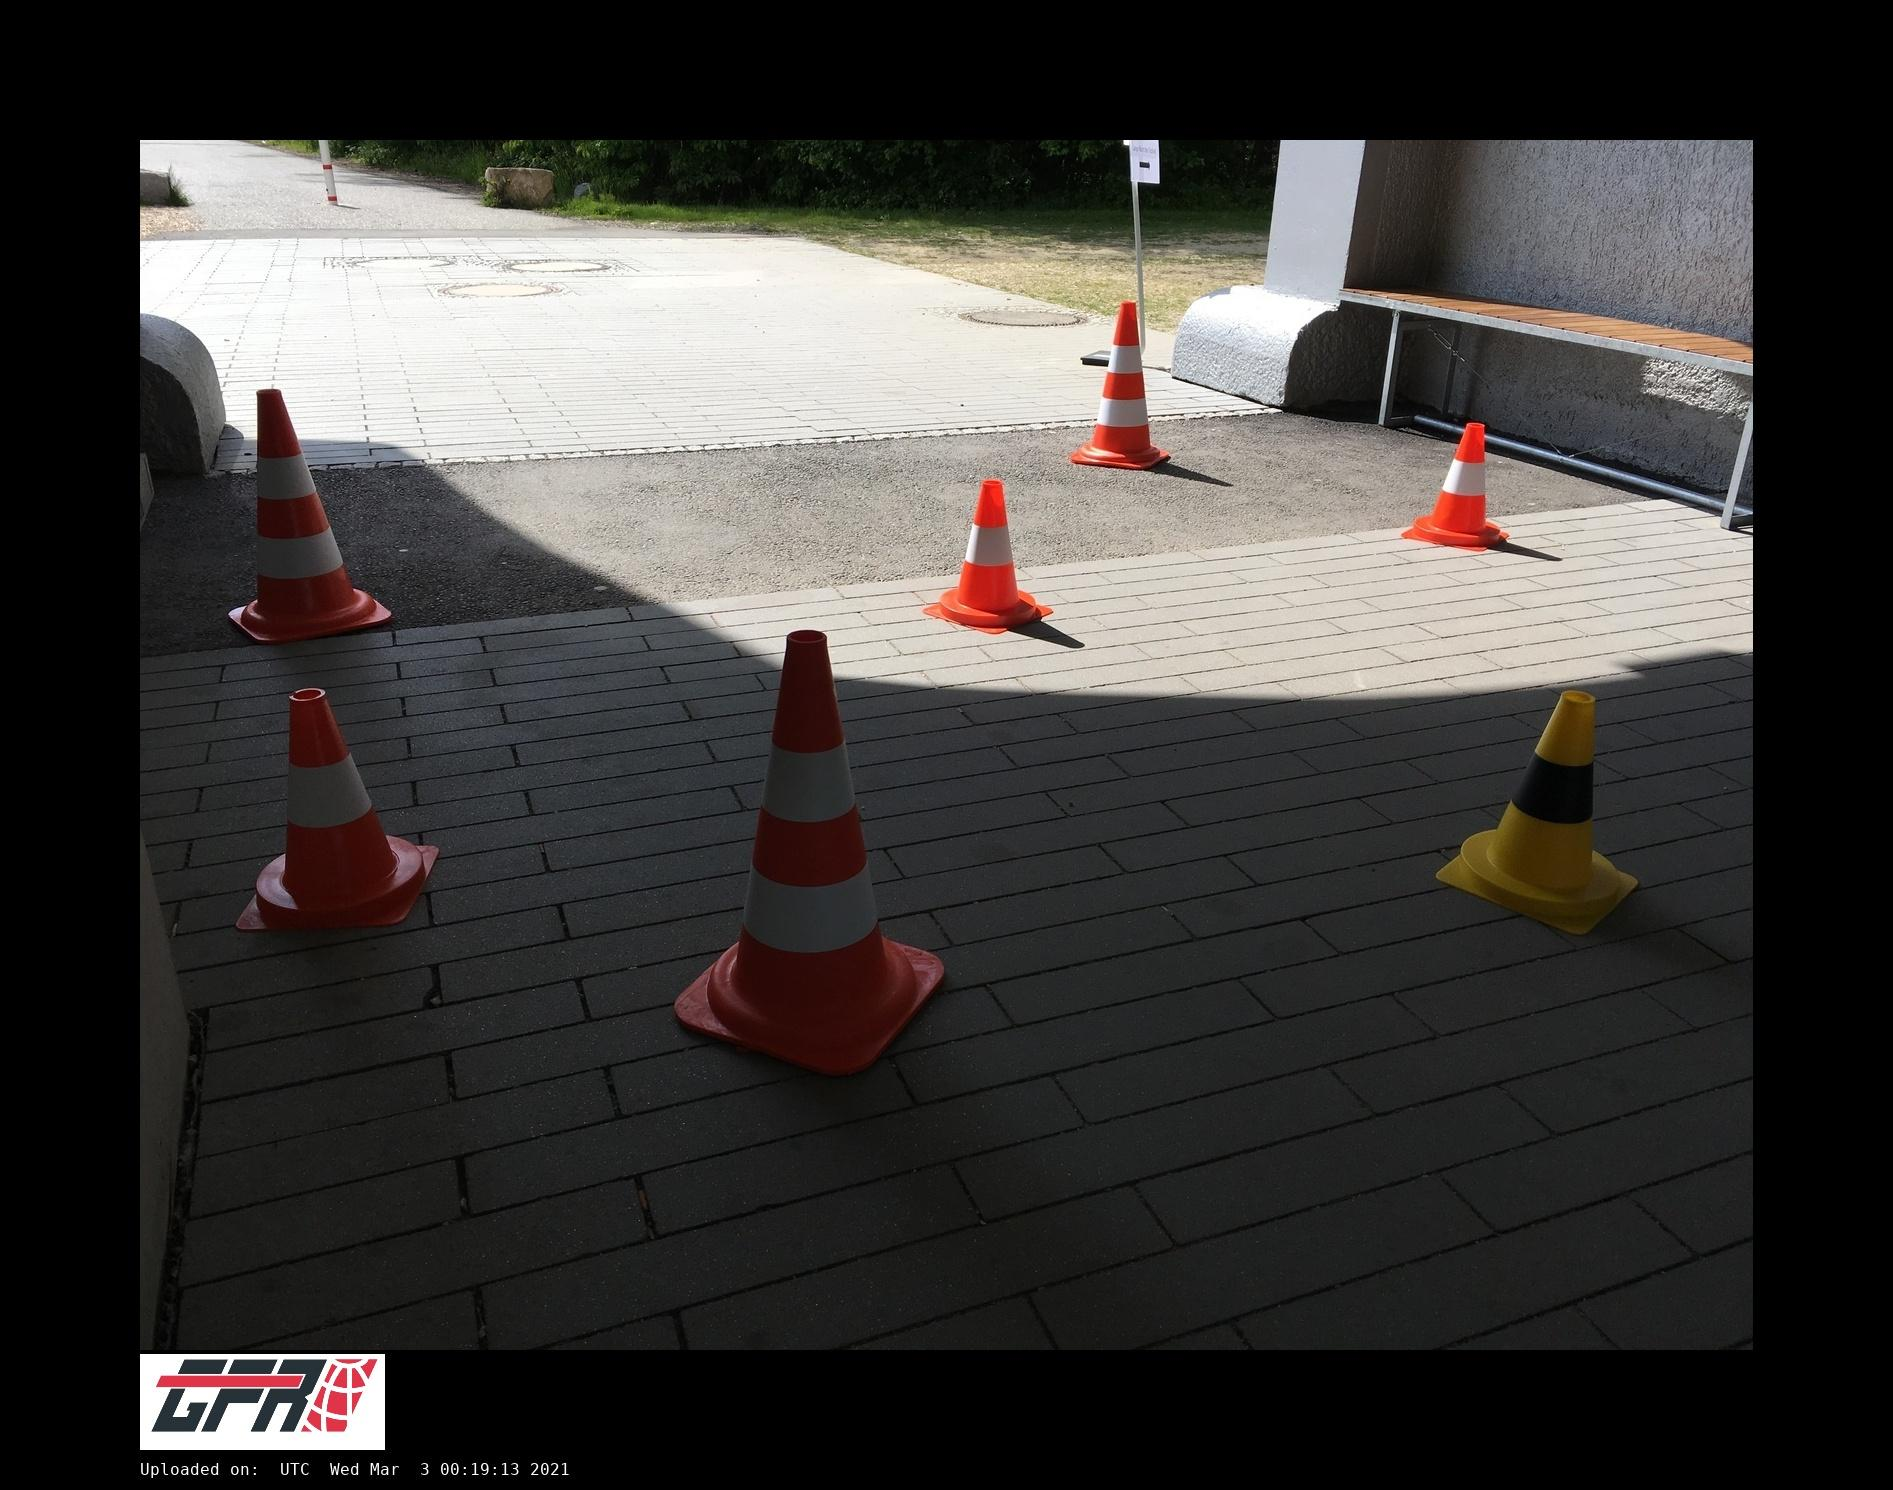large_orange_cone: (675, 630, 943, 1074), (229, 389, 390, 641), (1071, 303, 1169, 470)
orange_cone: (237, 687, 439, 931), (923, 479, 1053, 634), (1401, 422, 1507, 551)
yellow_cone: (1437, 690, 1636, 932)
